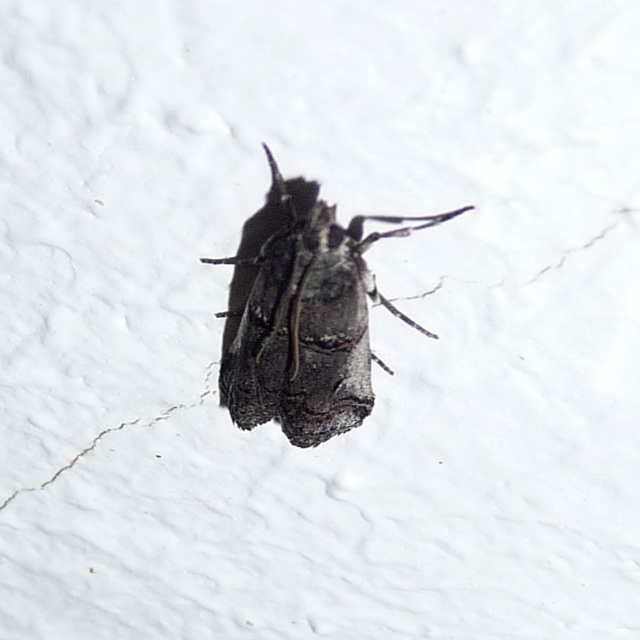Moths and butterflies: (196, 140, 477, 453)
